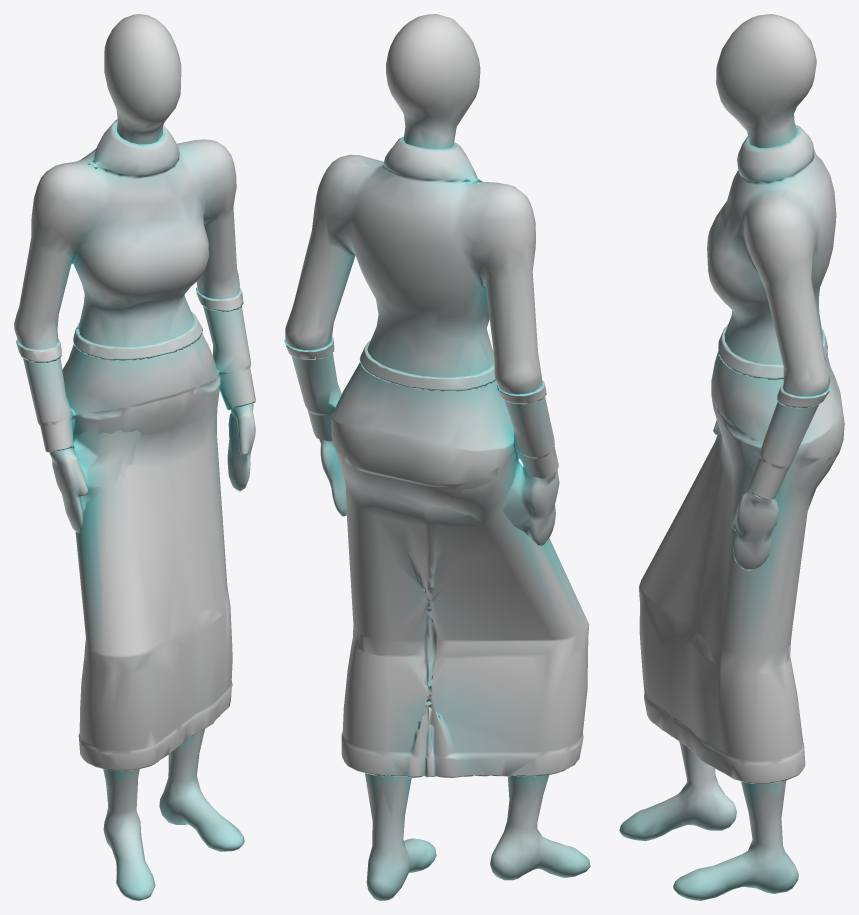
Rendered from mannequin-knitdress.glb.
3 renders of one model, left to right at view 1: azimuth 30°, elevation 25°; view 2: azimuth 150°, elevation 25°; view 3: azimuth 270°, elevation 25°, orthographic. The views are drawn at different scales.
Parts seen in each view (by area): view 1: dress, body, belt; view 2: dress, body, belt; view 3: dress, body, belt.
Boxes of the visible parts, box(x1,y1,x2,y2) form: dress: box(14, 119, 255, 771); body: box(49, 14, 255, 900); belt: box(16, 287, 243, 362); dress: box(285, 136, 589, 778); body: box(319, 14, 590, 900); belt: box(284, 336, 546, 404); dress: box(639, 124, 844, 783); body: box(619, 14, 820, 900); belt: box(718, 325, 830, 408).
Bounding box in the file's own units: 0.5204 × 1.8 × 0.4297.
